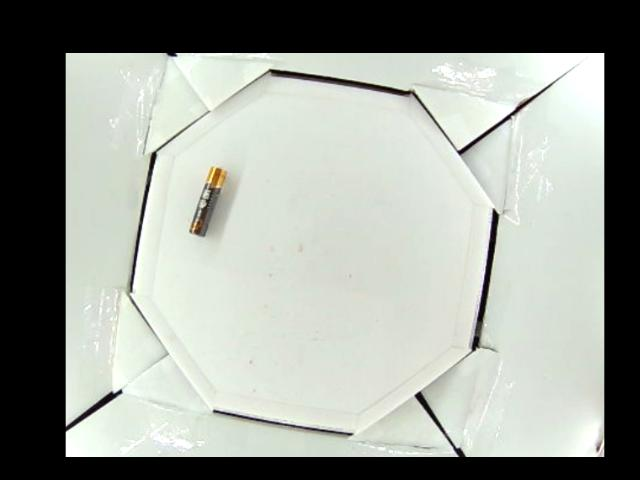Battery: (189, 166, 225, 235)
